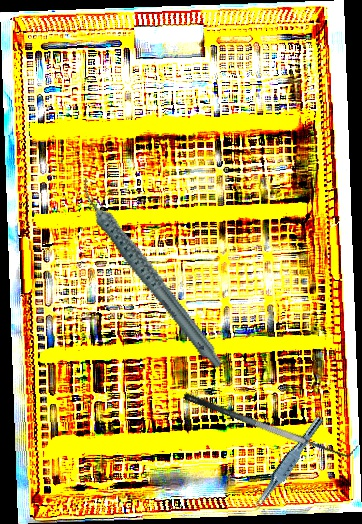Handpiece: (77, 157, 226, 389)
Spatula Surgical: (182, 378, 358, 468)
Tissue Forceps: (250, 412, 325, 515)
